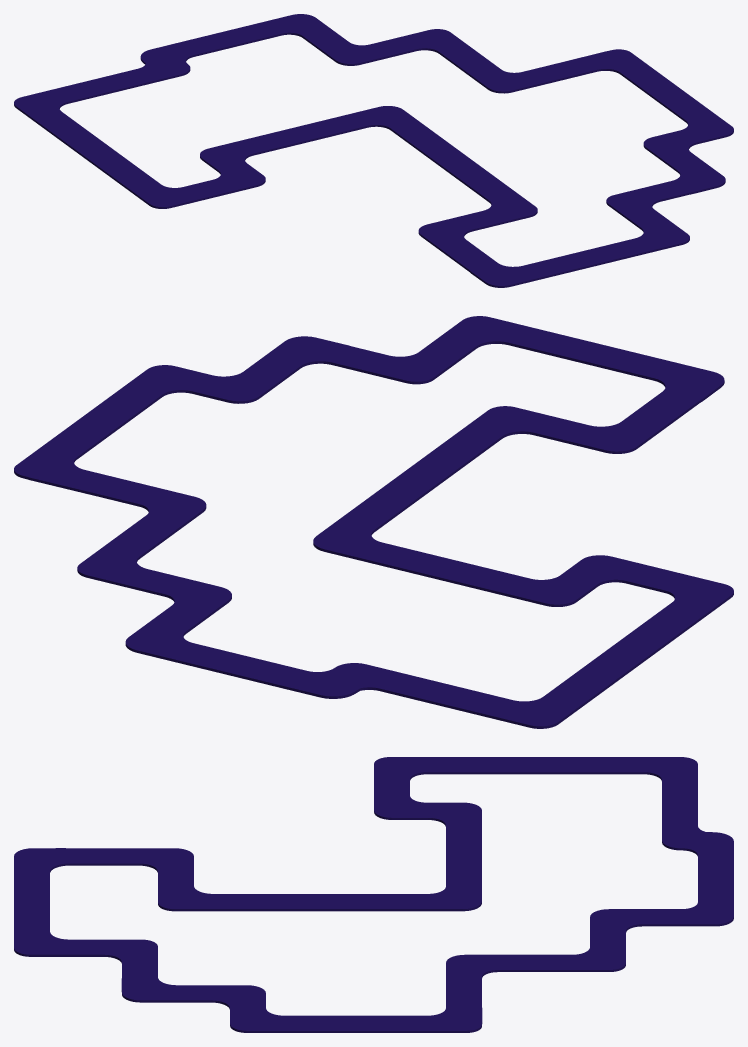
The model's file is way_cubeLand.glb.
The picture shows the model from 3 angles, top to bottom: view 1: azimuth 30°, elevation 25°; view 2: azimuth 150°, elevation 25°; view 3: azimuth 270°, elevation 25°; orthographic projection. The views are drawn at different scales.
Parts seen in each view (by area): view 1: Plane.002; view 2: Plane.002; view 3: Plane.002.
Part boxes in pixels (x1=…): Plane.002: x1=14, y1=14, x2=733, y2=287; Plane.002: x1=14, y1=316, x2=733, y2=728; Plane.002: x1=14, y1=757, x2=733, y2=1032.
Size of the model in its own units: 4.68 by 0.017 by 5.21.
